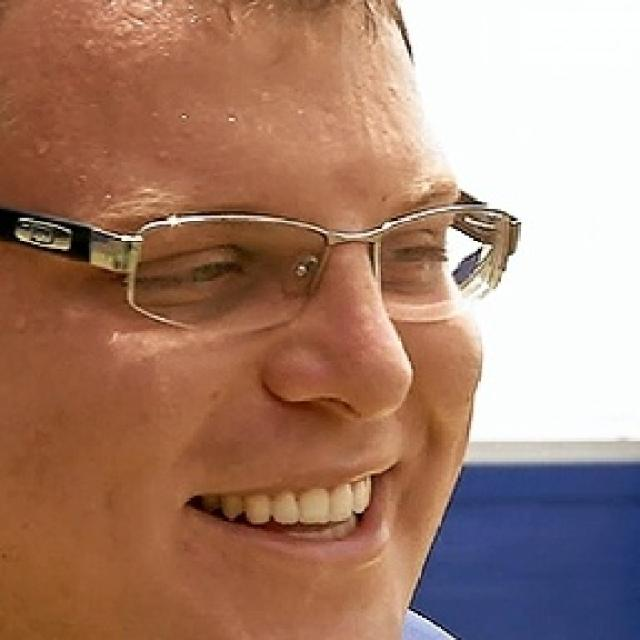Normal: (10, 2, 485, 632)
